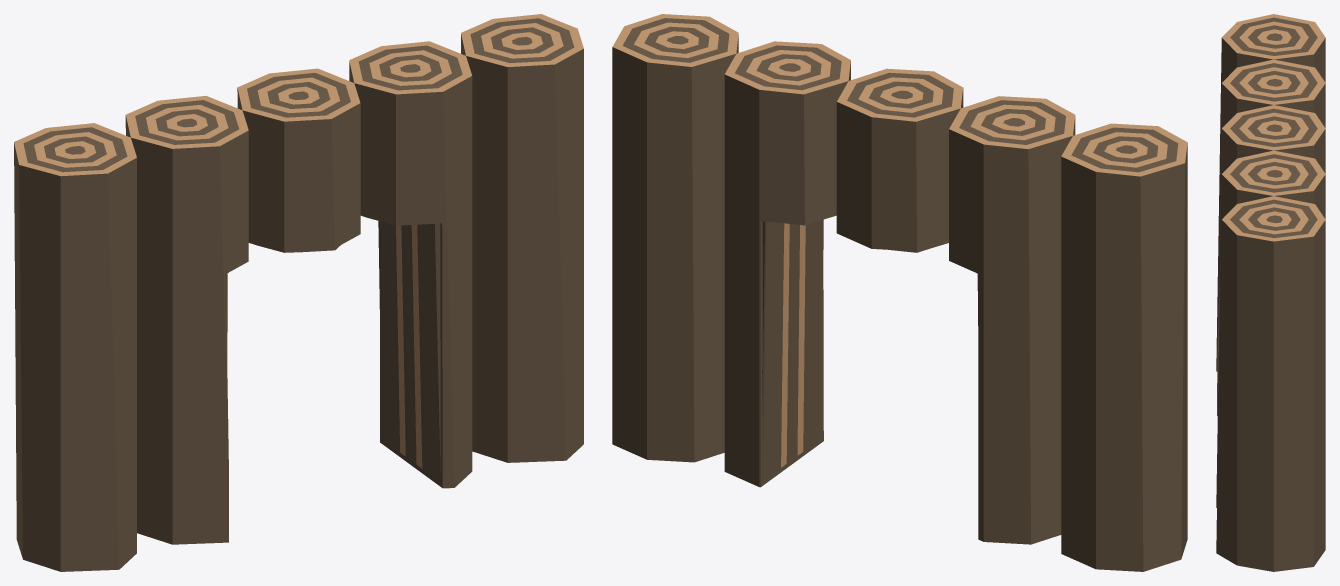
The model's file is PuertaTronco.fbx.
3 renders of one model, left to right at view 1: azimuth 30°, elevation 25°; view 2: azimuth 150°, elevation 25°; view 3: azimuth 270°, elevation 25°, orthographic. The views are drawn at different scales.
Parts seen in each view (by area): view 1: PuertaTronco; view 2: PuertaTronco; view 3: PuertaTronco.
Part boxes in pixels (x1,y1,x2,y2): PuertaTronco: (14,14,583,571); PuertaTronco: (612,14,1187,571); PuertaTronco: (1216,14,1325,571).
Bounding box in the file's own units: 1036 × 701 × 211.
